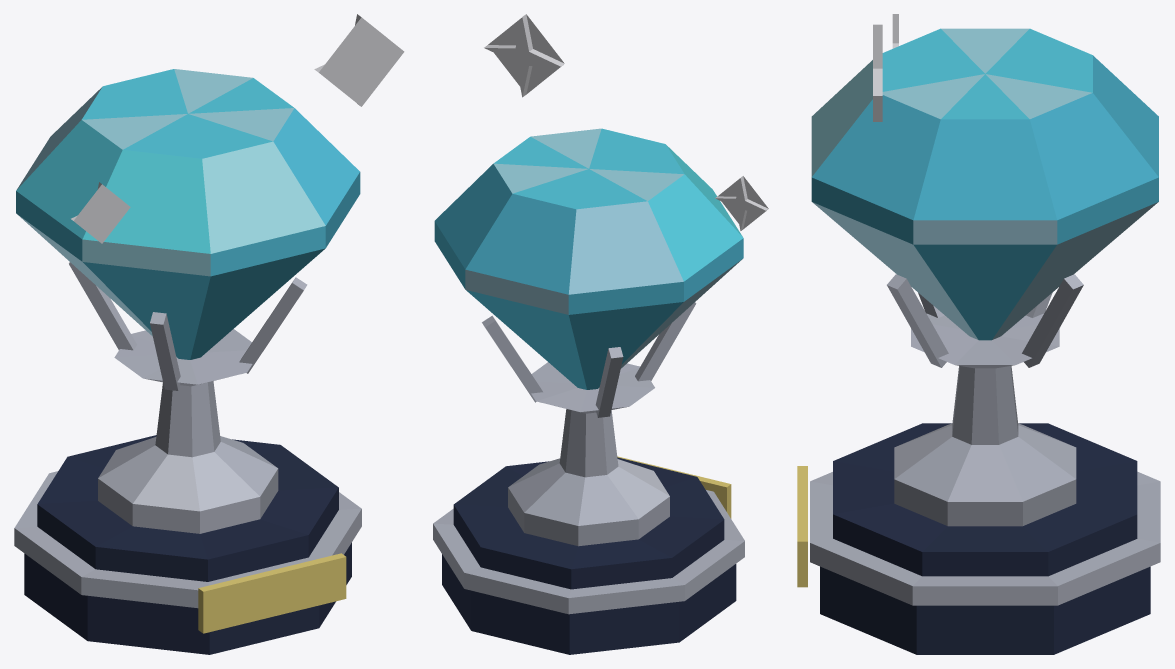
The model's file is Trophy_Diamond.fbx.
3 views of the same model, side by side, from view 1: azimuth 30°, elevation 25°; view 2: azimuth 150°, elevation 25°; view 3: azimuth 270°, elevation 25° (orthographic). The views are drawn at different scales.
Parts seen in each view (by area): view 1: Body; view 2: Body; view 3: Body.
Boxes of the visible parts, left/top/right/bottom form: Body: left=14, top=14, right=404, bottom=654; Body: left=433, top=14, right=768, bottom=654; Body: left=797, top=14, right=1160, bottom=654.
Size of the model in its own units: 2.25 by 3.85 by 2.03.
